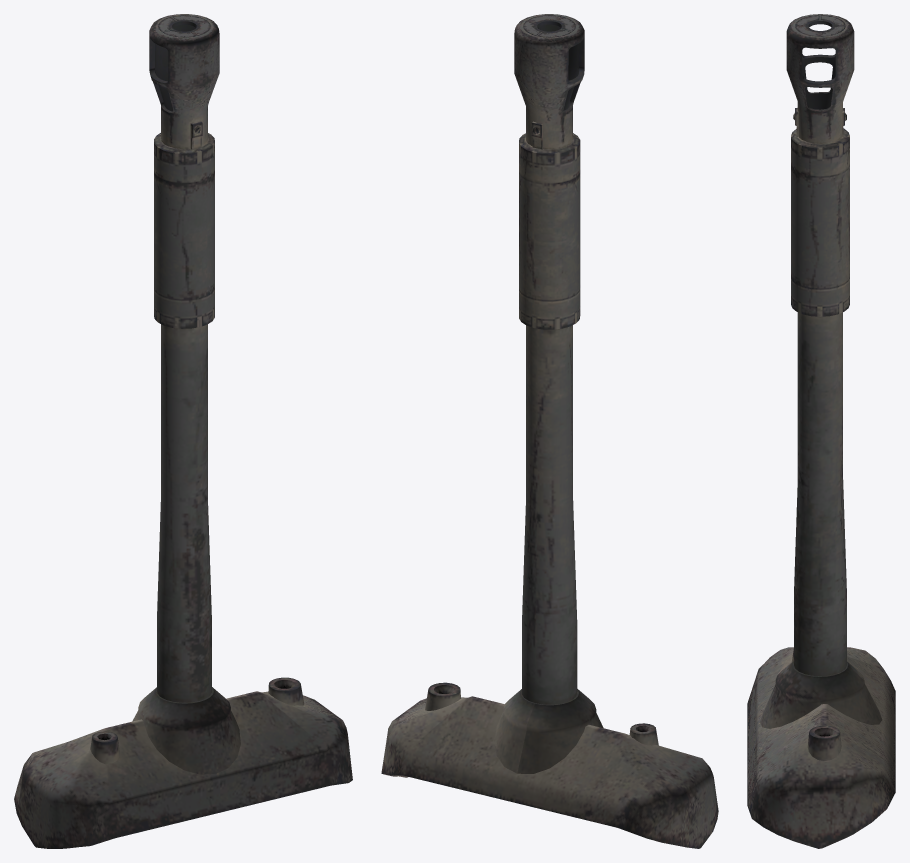
File: Gun_01.glb
The picture shows the model from 3 angles, left to right: view 1: azimuth 30°, elevation 25°; view 2: azimuth 150°, elevation 25°; view 3: azimuth 270°, elevation 25°; orthographic projection. The views are drawn at different scales.
Visible parts, largest first — view 1: set_0_group_0; view 2: set_0_group_0; view 3: set_0_group_0.
Boxes of the visible parts, x1,y1,x2,y2 form: set_0_group_0: (14, 14, 352, 848); set_0_group_0: (381, 14, 718, 848); set_0_group_0: (747, 14, 895, 848).
Size of the model in its own units: 1.3 by 3.27 by 0.5849.
1 material, 1 textured.
